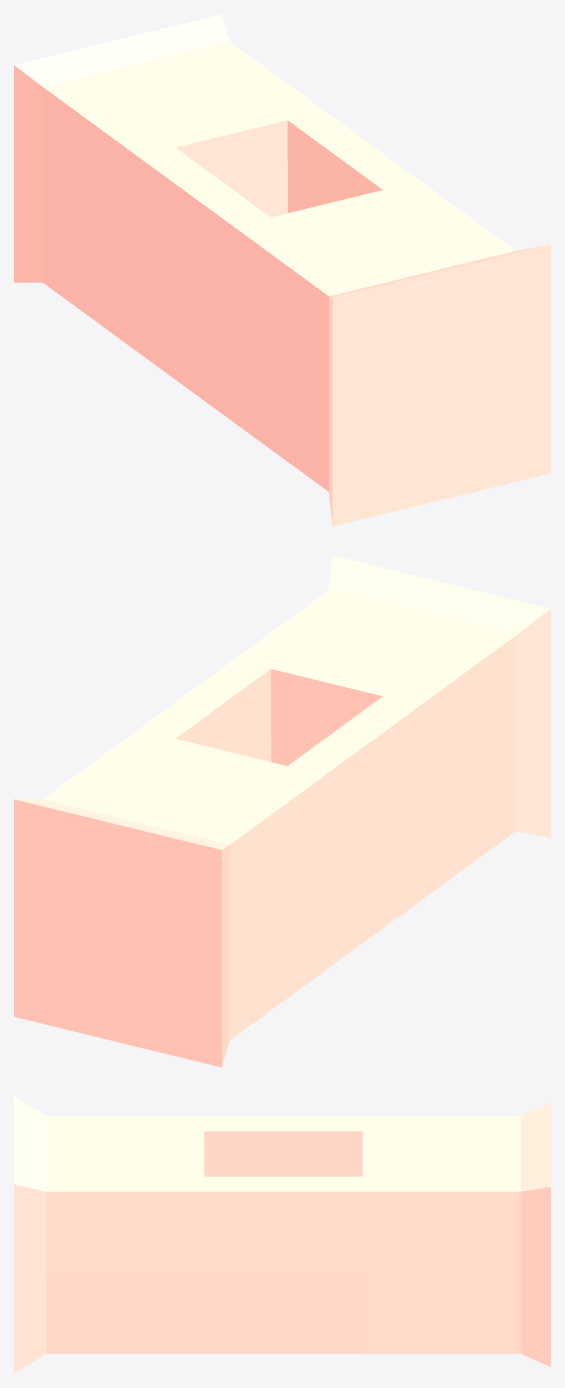
The model's file is saule_mit_halbloch_platz.fbx.
3 views of the same model, one above another, from view 1: azimuth 30°, elevation 25°; view 2: azimuth 150°, elevation 25°; view 3: azimuth 270°, elevation 25° (orthographic). The views are drawn at different scales.
Parts seen in each view (by area): view 1: Cube; view 2: Cube; view 3: Cube.
Boxes of the visible parts, bbox=[...] form: Cube: bbox=[14, 14, 550, 526]; Cube: bbox=[14, 555, 550, 1067]; Cube: bbox=[14, 1096, 550, 1373].
Size of the model in its own units: 2.34 by 2.34 by 6.
